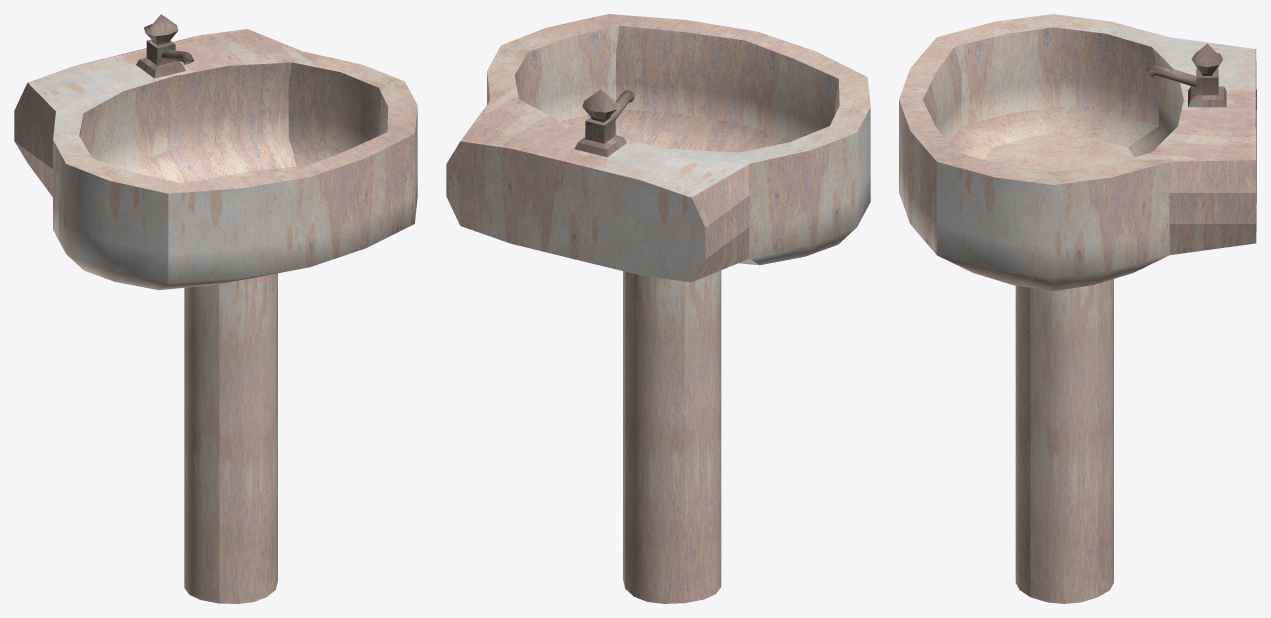
Rendered from Rusty Hand Washer.FBX.
The picture shows the model from 3 angles, left to right: view 1: azimuth 30°, elevation 25°; view 2: azimuth 150°, elevation 25°; view 3: azimuth 270°, elevation 25°; orthographic projection. The views are drawn at different scales.
Parts seen in each view (by area): view 1: Box003; view 2: Box003; view 3: Box003.
Boxes of the visible parts, x1,y1,x2,y2 form: Box003: (14, 14, 417, 603); Box003: (446, 14, 870, 603); Box003: (899, 14, 1256, 603).
Bounding box in the file's own units: 62.77 × 92.17 × 55.47.
